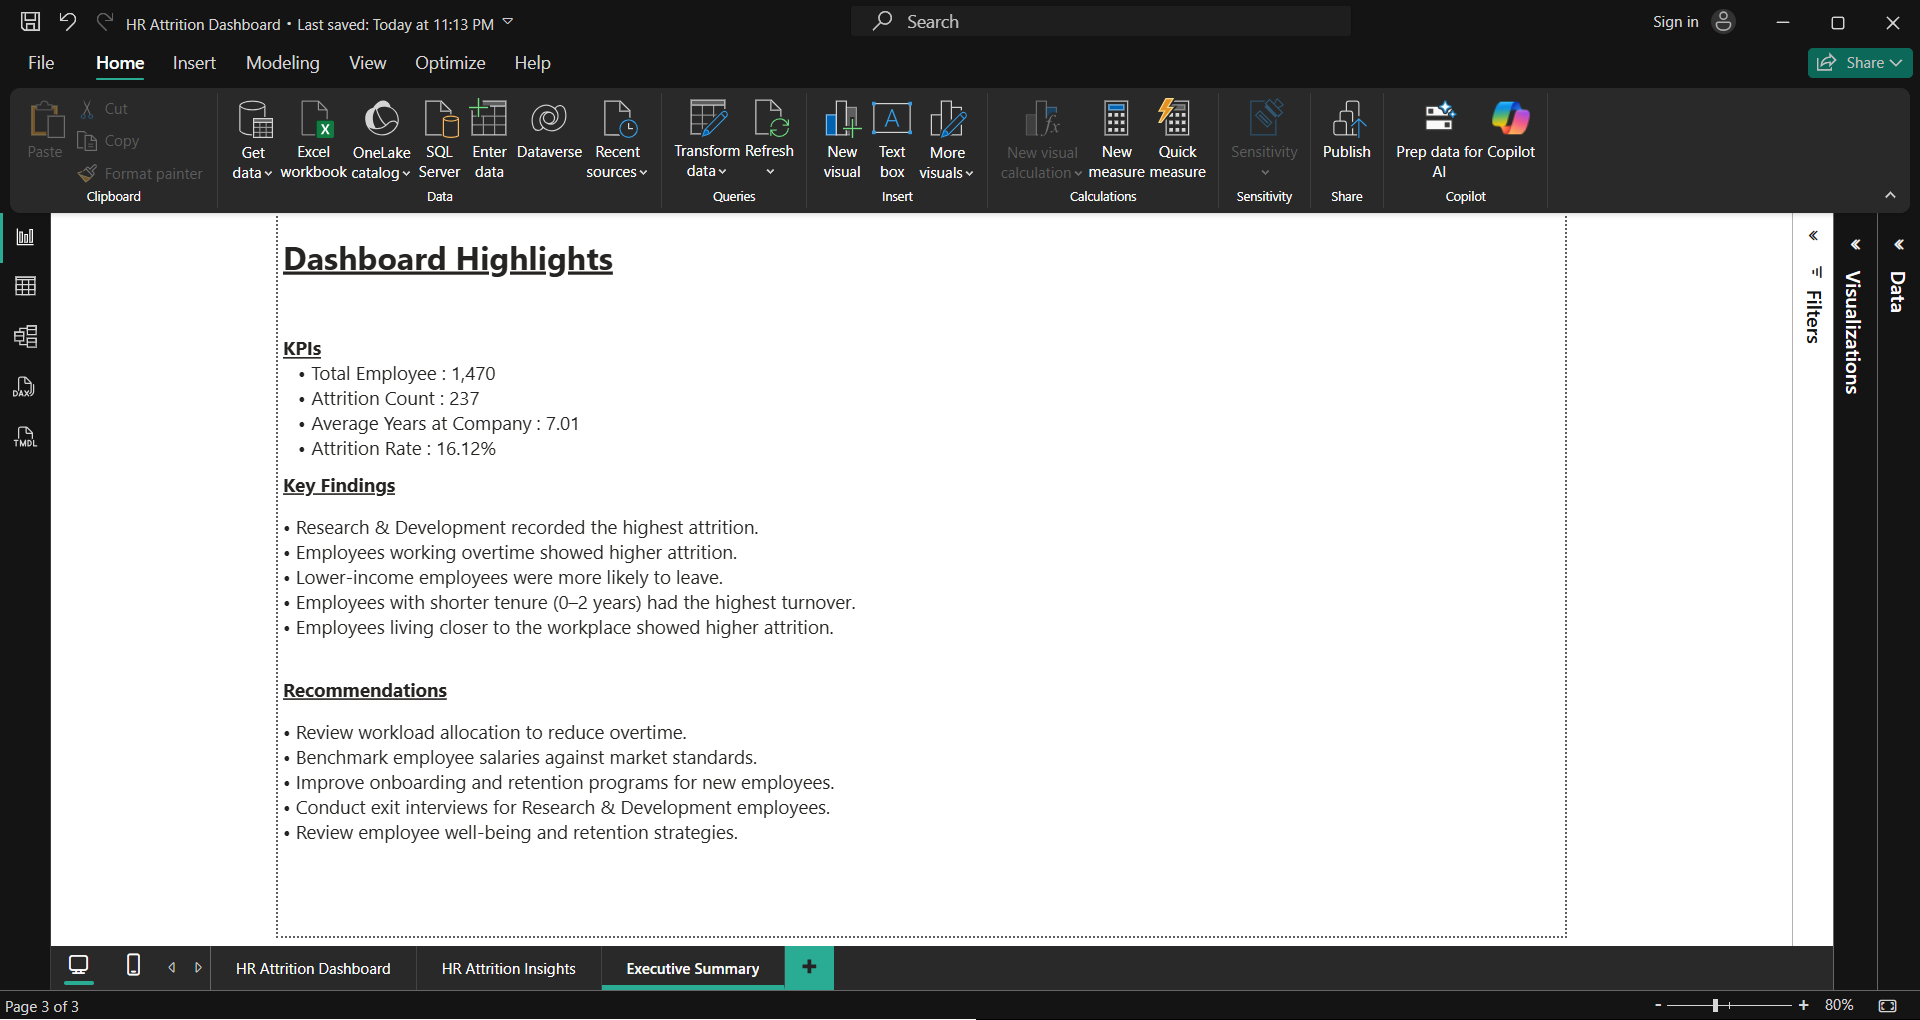

The dashboard page shown, as its layout file describes it:
{"tool":"powerbi","page":{"name":"Executive Summary","canvas":[1280,720],"ordinal":2},"visuals":[{"type":"textbox","box":[0,116.6,694.3,135.8],"z":0},{"type":"textbox","box":[0,252.5,694.3,204.5],"z":1000},{"type":"textbox","box":[0,456.9,811,204.5],"z":2000},{"type":"textbox","box":[0,17.8,467.9,61.7],"z":3000}]}

Visuals, with their boxes on the page's 1280x720 design canvas (x1, y1, x2, y2). These are canvas units, not pixel positions in the 1920x1020 screenshot, which may show the page scaled, cropped or inside an application window:
textbox: x1=0 y1=117 x2=694 y2=252
textbox: x1=0 y1=252 x2=694 y2=457
textbox: x1=0 y1=457 x2=811 y2=661
textbox: x1=0 y1=18 x2=468 y2=80
